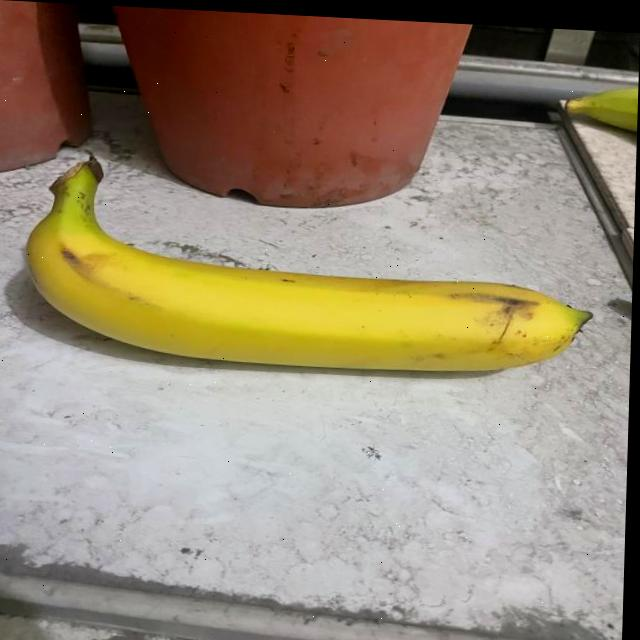banana: (17, 146, 593, 386)
